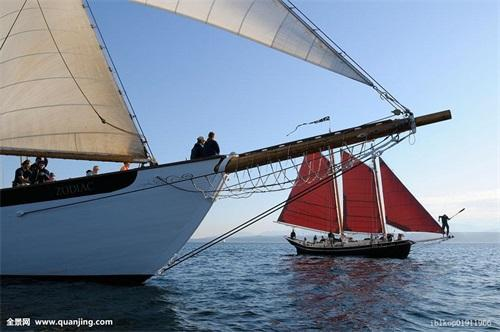Ship: (1, 1, 451, 284), (278, 117, 451, 259)
